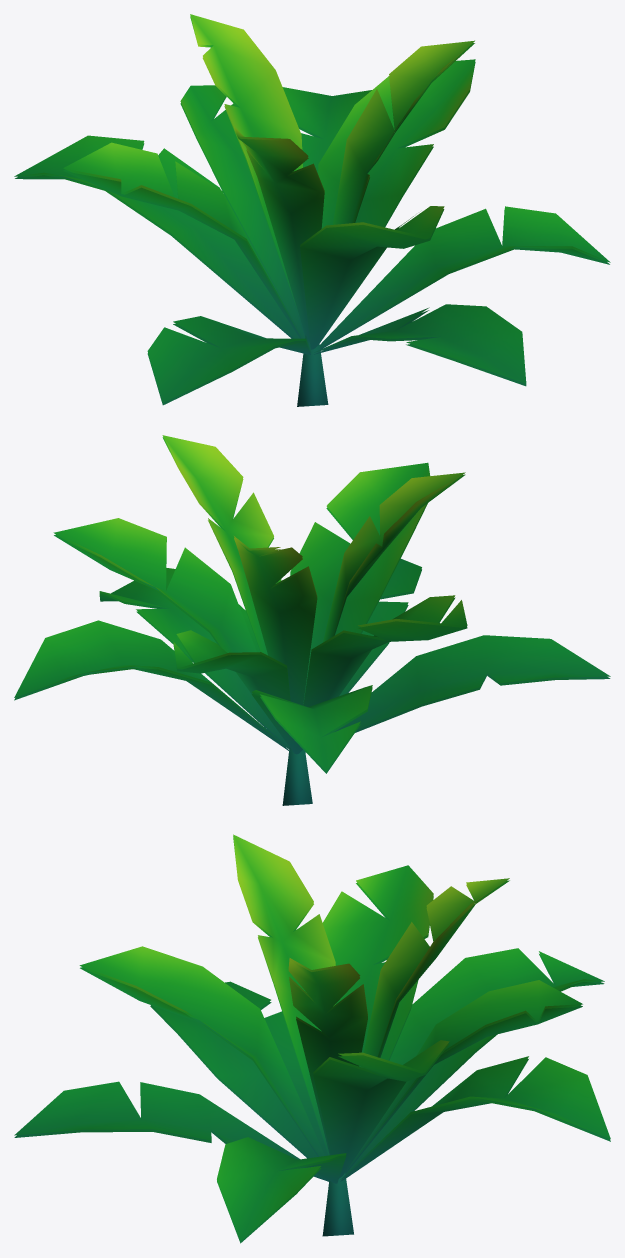
File: Fern_3A.fbx
The picture shows the model from 3 angles, top to bottom: view 1: azimuth 30°, elevation 25°; view 2: azimuth 150°, elevation 25°; view 3: azimuth 270°, elevation 25°; orthographic projection. The views are drawn at different scales.
Visible parts, largest first — view 1: Fern_3A; view 2: Fern_3A; view 3: Fern_3A.
Part boxes in pixels (x1,y1,x2,y2): Fern_3A: [14, 14, 610, 406]; Fern_3A: [14, 435, 610, 805]; Fern_3A: [14, 834, 610, 1243].
Size of the model in its own units: 125 by 81.46 by 131.
